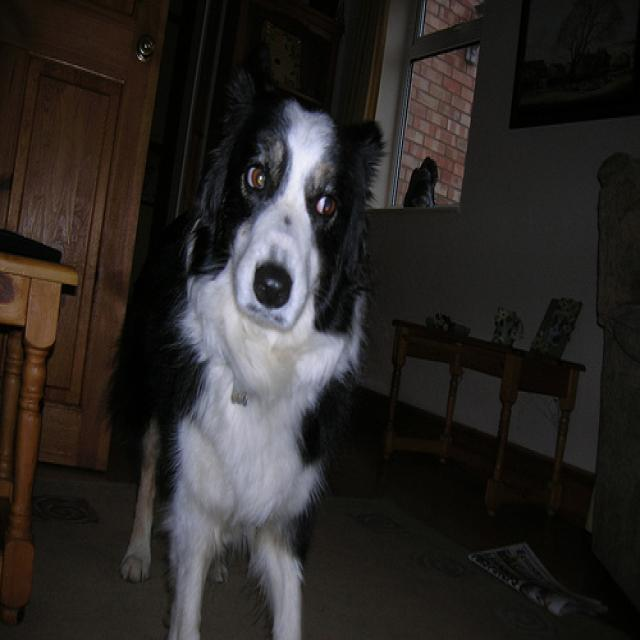Table: (384, 283, 600, 508)
chair: (2, 199, 83, 640)
dog: (100, 83, 398, 640)
